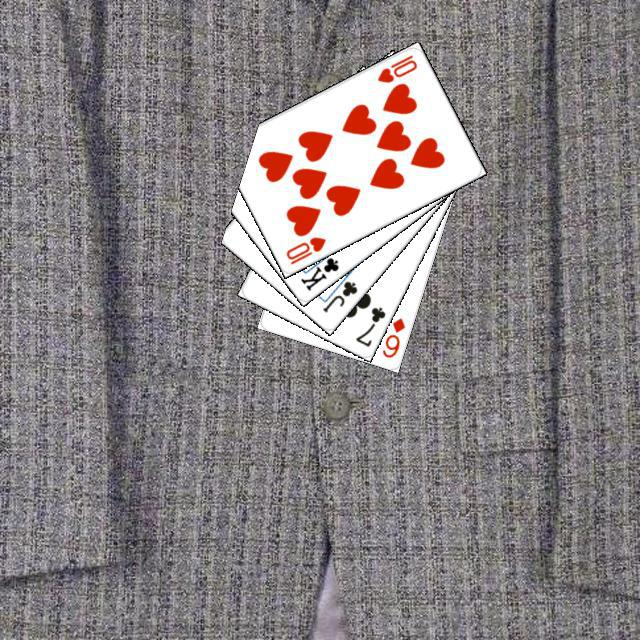10h: (372, 50, 419, 85), (281, 232, 328, 266)
6d: (377, 313, 407, 360)
7c: (351, 302, 387, 349)
Jc: (318, 276, 359, 314)
Kc: (295, 245, 341, 293)
